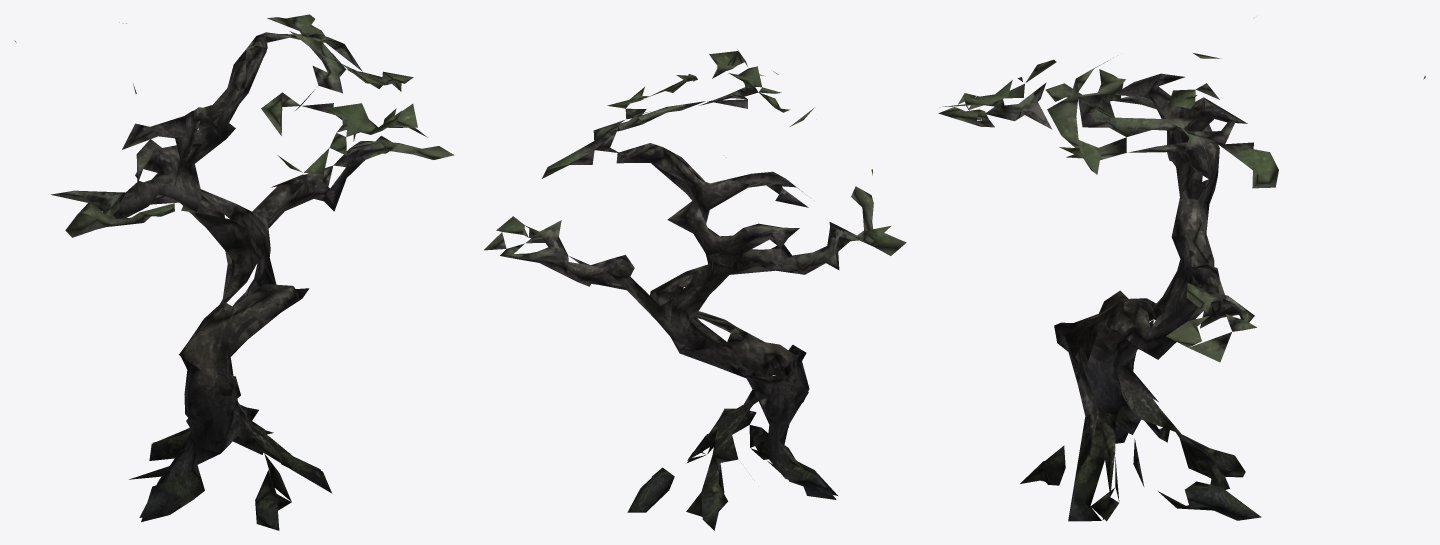
File: desert-tree-3.glb
3 renders of one model, left to right at view 1: azimuth 30°, elevation 25°; view 2: azimuth 150°, elevation 25°; view 3: azimuth 270°, elevation 25°, orthographic. The views are drawn at different scales.
Visible parts, largest first — view 1: geometry_0; view 2: geometry_0; view 3: geometry_0.
Boxes of the visible parts, box(x1,y1,x2,y2) form: geometry_0: box(14, 14, 454, 530); geometry_0: box(484, 49, 906, 530); geometry_0: box(938, 17, 1425, 521).
Size of the model in its own units: 0.6914 by 0.7063 by 0.6657.
Materials: 1 (1 with a texture image).
